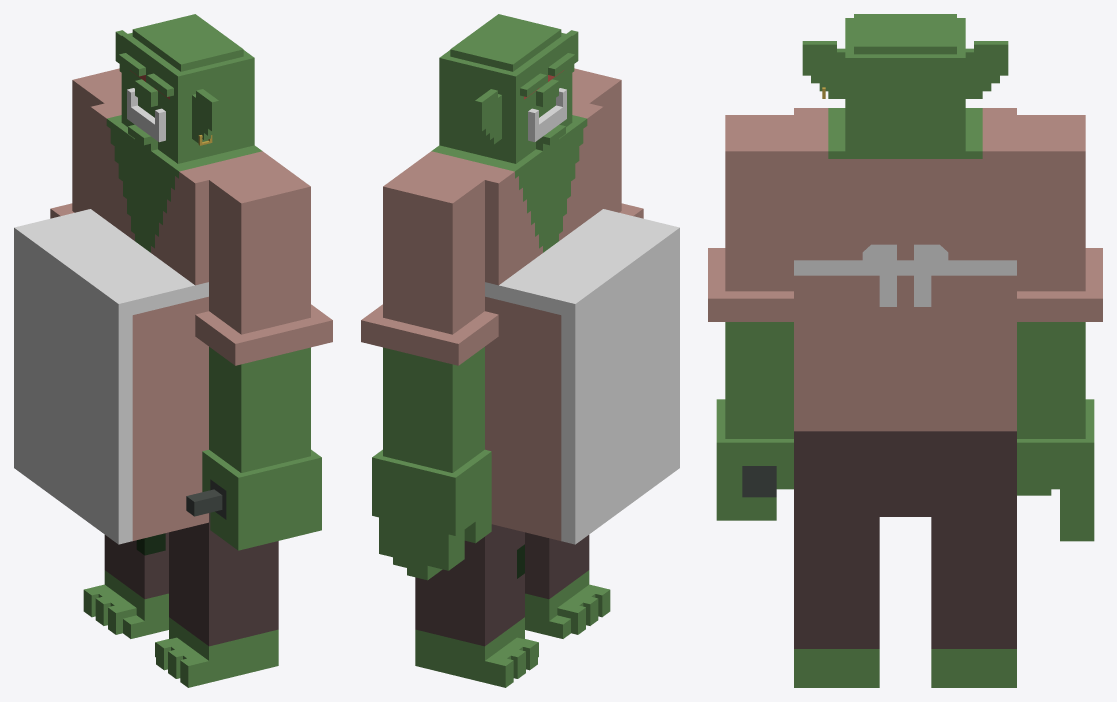
Rendered from oste fbx.fbx.
The picture shows the model from 3 angles, left to right: view 1: azimuth 30°, elevation 25°; view 2: azimuth 150°, elevation 25°; view 3: azimuth 270°, elevation 25°; orthographic projection. The views are drawn at different scales.
Parts seen in each view (by area): view 1: oste; view 2: oste; view 3: oste.
Part boxes in pixels (bbox=[...]): oste: bbox=[14, 14, 332, 687]; oste: bbox=[361, 14, 679, 687]; oste: bbox=[708, 14, 1102, 687].
Bounding box in the file's own units: 250 × 820 × 460.
